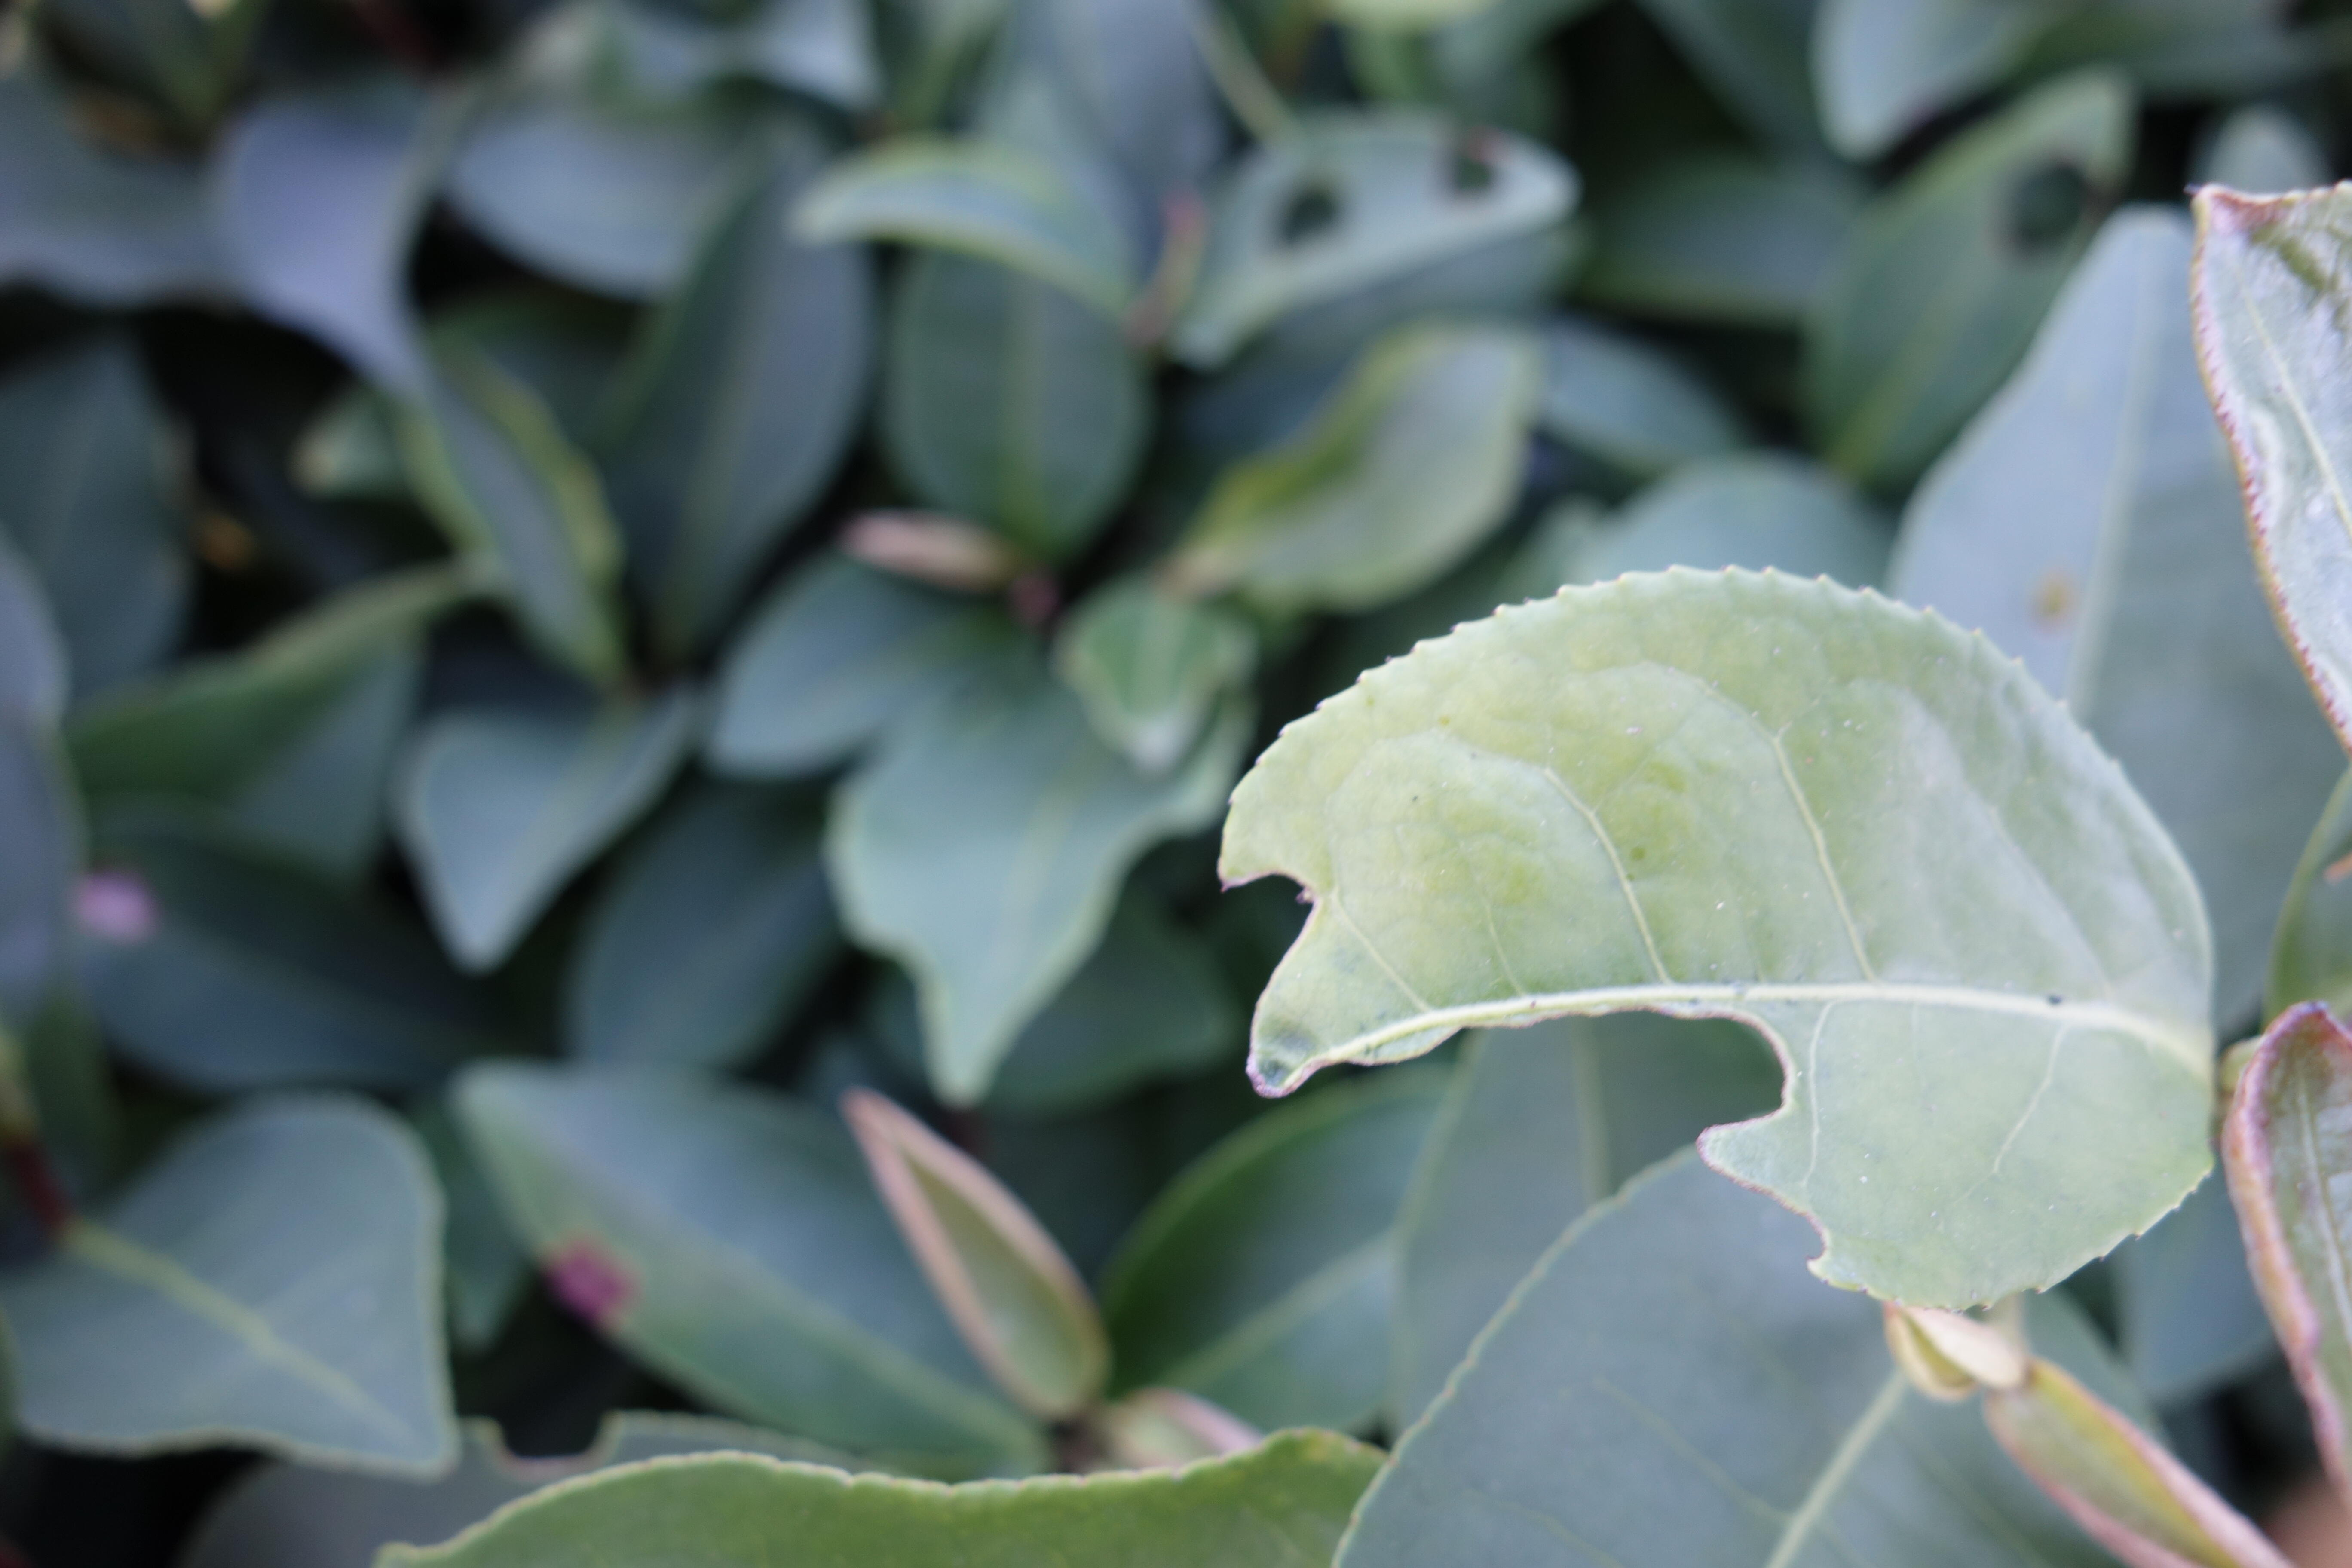chihuo_high: (1220, 565, 2228, 1309)
tanju_low: (2186, 178, 2352, 745), (2228, 999, 2350, 1491)
